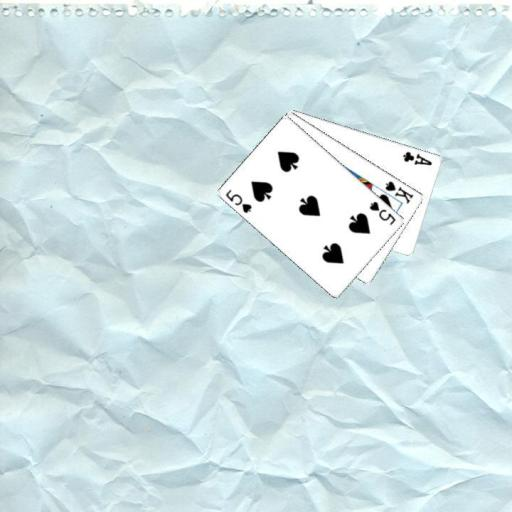5S: (366, 198, 398, 226), (223, 186, 253, 215)
AC: (400, 148, 434, 166)
KS: (382, 178, 415, 205)
